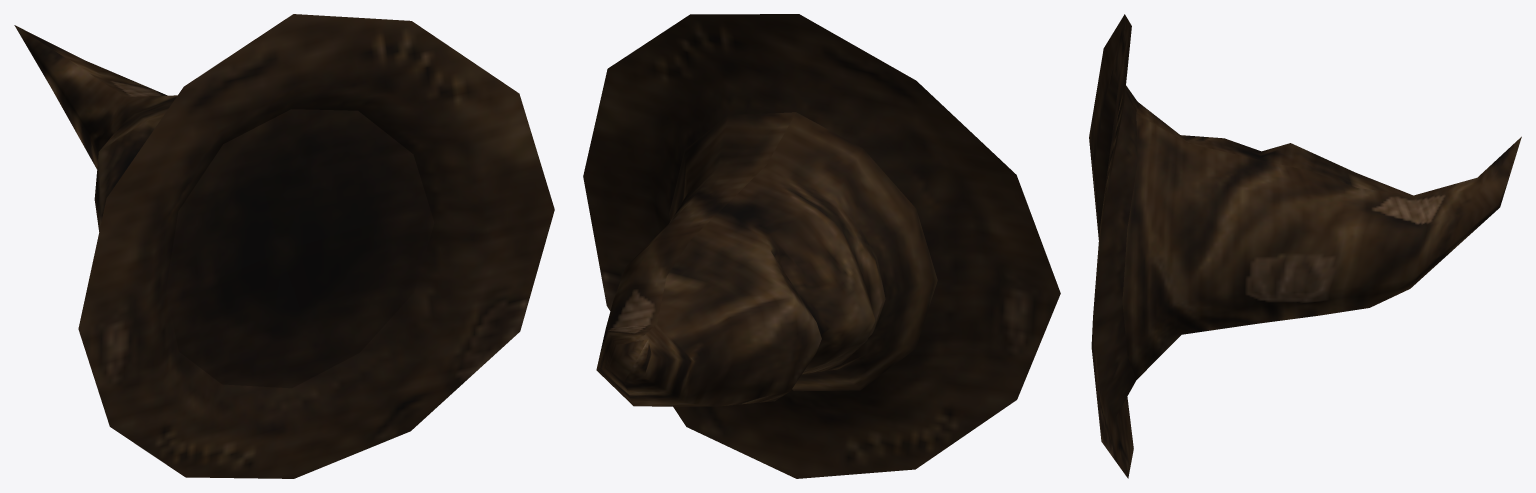
The picture shows the model from 3 angles, left to right: view 1: azimuth 30°, elevation 25°; view 2: azimuth 150°, elevation 25°; view 3: azimuth 270°, elevation 25°; orthographic projection. The views are drawn at different scales.
Visible parts, largest first — view 1: SketchUp; view 2: SketchUp; view 3: SketchUp.
Part boxes in pixels (x1,y1,x2,y2): SketchUp: [14, 14, 554, 478]; SketchUp: [583, 14, 1060, 478]; SketchUp: [1089, 14, 1521, 478].
Bounding box in the file's own units: 35.43 × 30.71 × 33.03.
Materials: 1 (1 with a texture image).
